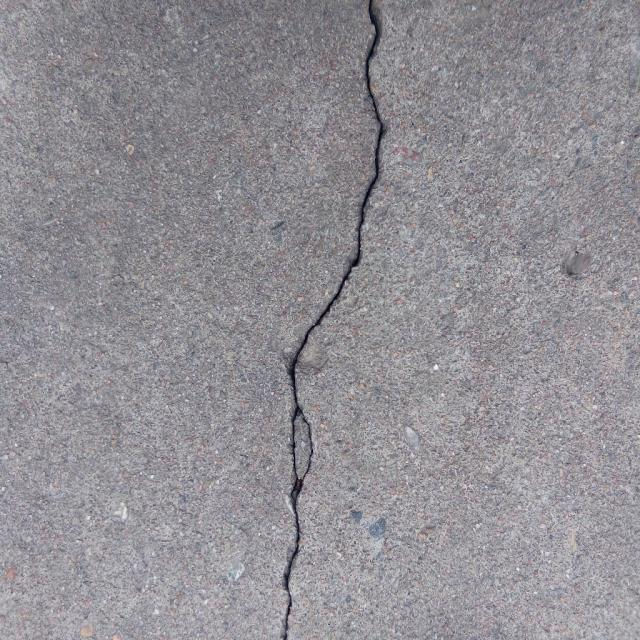cracks: (266, 2, 423, 626)
